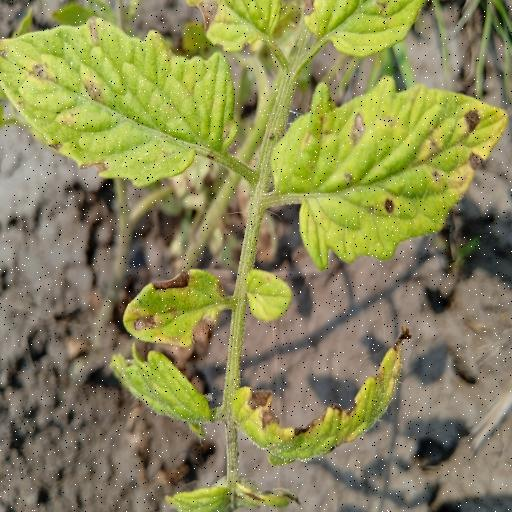Tomato_Brown_Spots: (269, 70, 512, 276), (0, 14, 241, 190), (124, 262, 239, 352)
